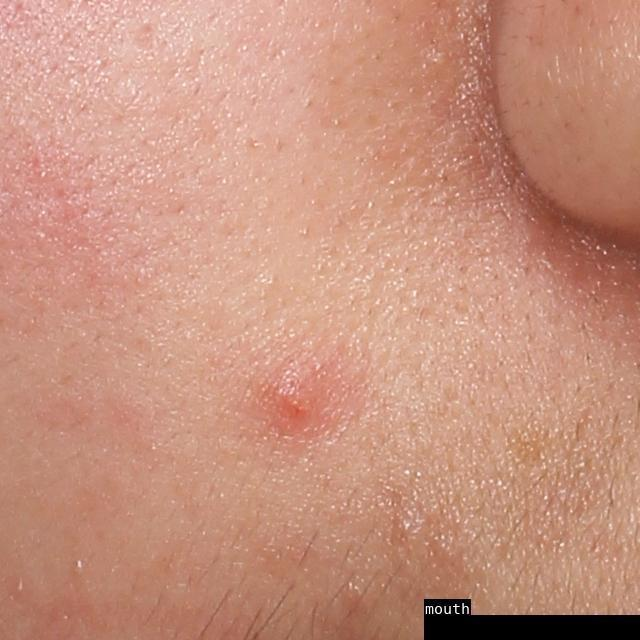papule: (273, 369, 323, 422)
